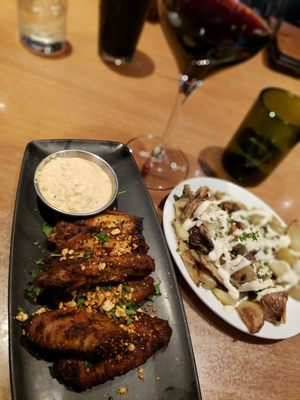pizza: (97, 0, 153, 69)
sushi: (34, 149, 119, 226)
